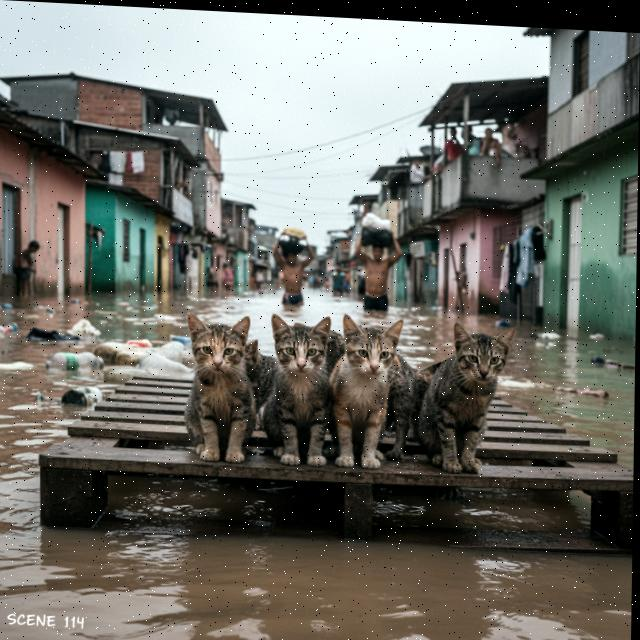cat: (416, 314, 511, 483), (177, 313, 270, 465), (259, 309, 337, 471), (334, 314, 408, 473), (291, 317, 355, 463), (370, 345, 432, 466), (241, 337, 287, 436)
civilian: (348, 224, 406, 319), (269, 232, 319, 310), (14, 235, 41, 302), (327, 265, 347, 300), (480, 126, 501, 157), (220, 261, 236, 295), (251, 269, 266, 291)
